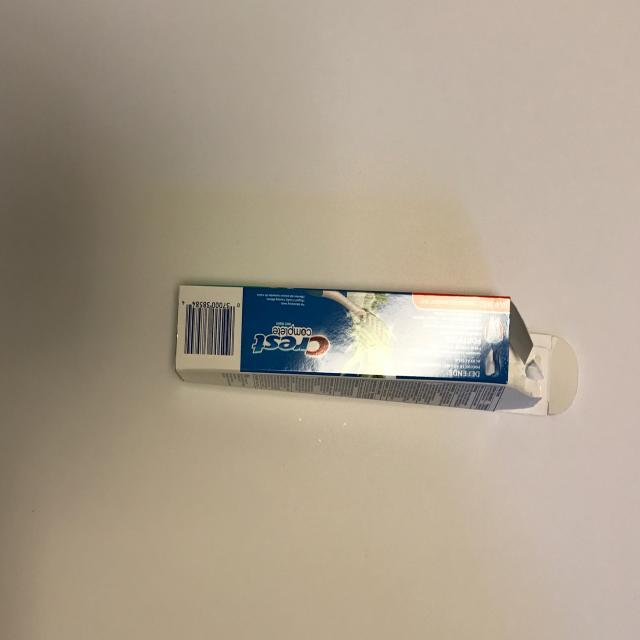paper: (154, 253, 595, 440)
